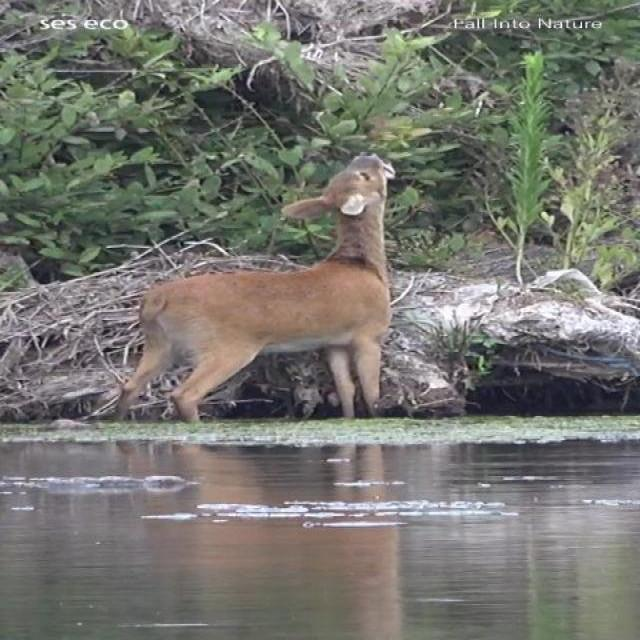deer: (110, 152, 398, 419)
